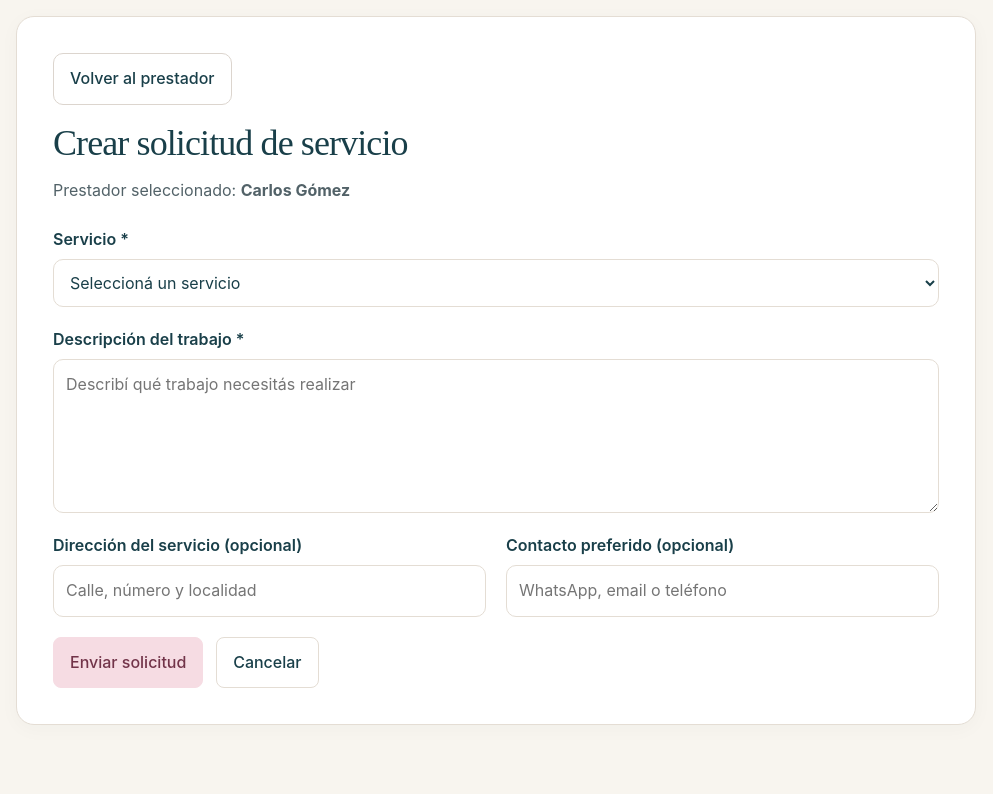
it: F-11 - Formulario de solicitud › muestra el error si falla el envío
This screenshot has width=993, height=794.
Select "Plomero" in the dropdown labelled "Servicio *" at (496, 283), box [53,259,939,307]
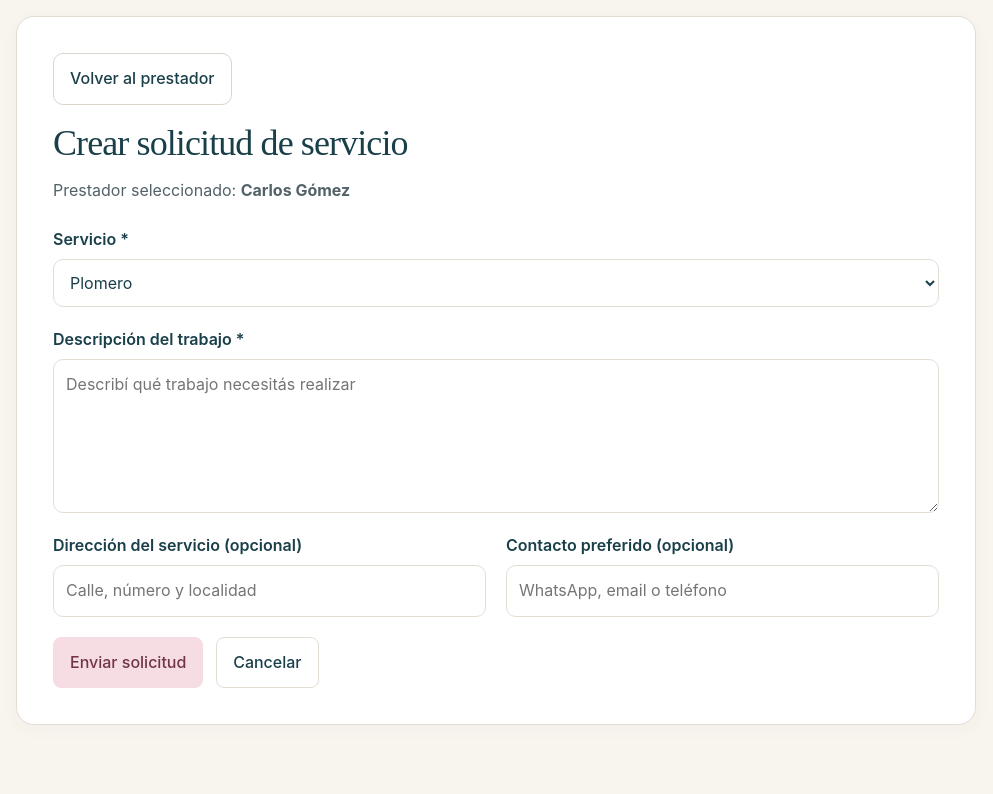
Type "Necesito reparar una pérdida de agua en la cocina." into the text box labelled "Descripción del trabajo *".
click(496, 436); type("Necesito reparar una pérdida de agua en la cocina.")  # box [53,359,939,513]
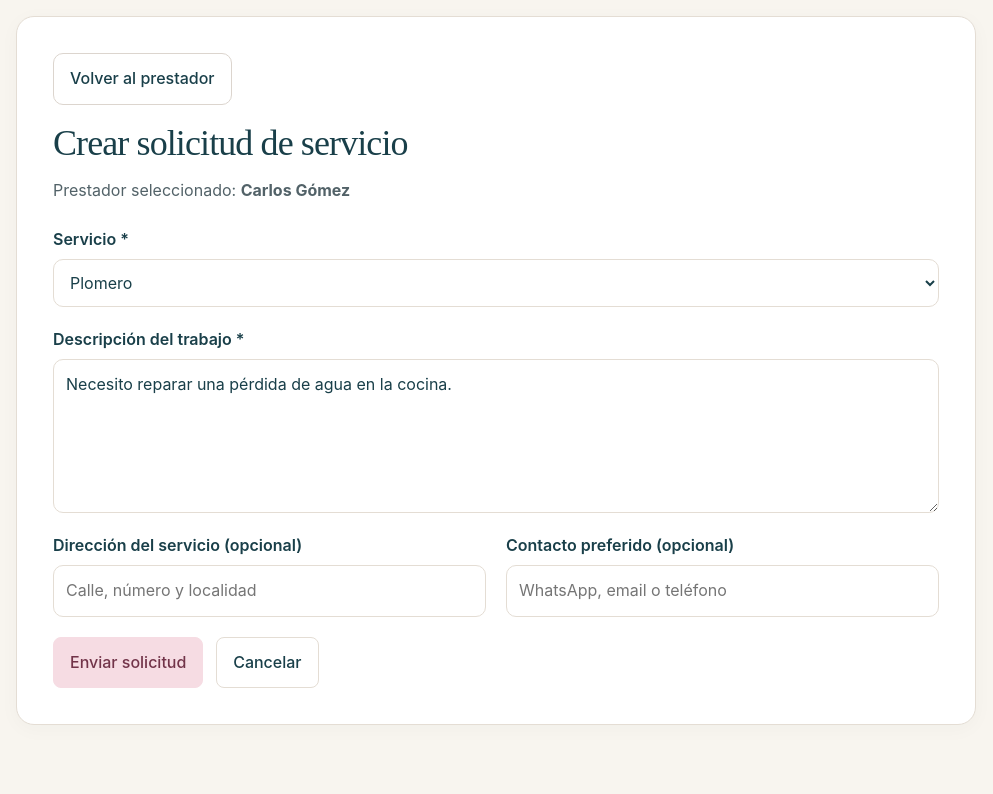
Type "Av. Santa Fe 1234" into the field labelled "Dirección del servicio (opcional)".
click(270, 591); type("Av. Santa Fe 1234")  # box [53,565,486,617]
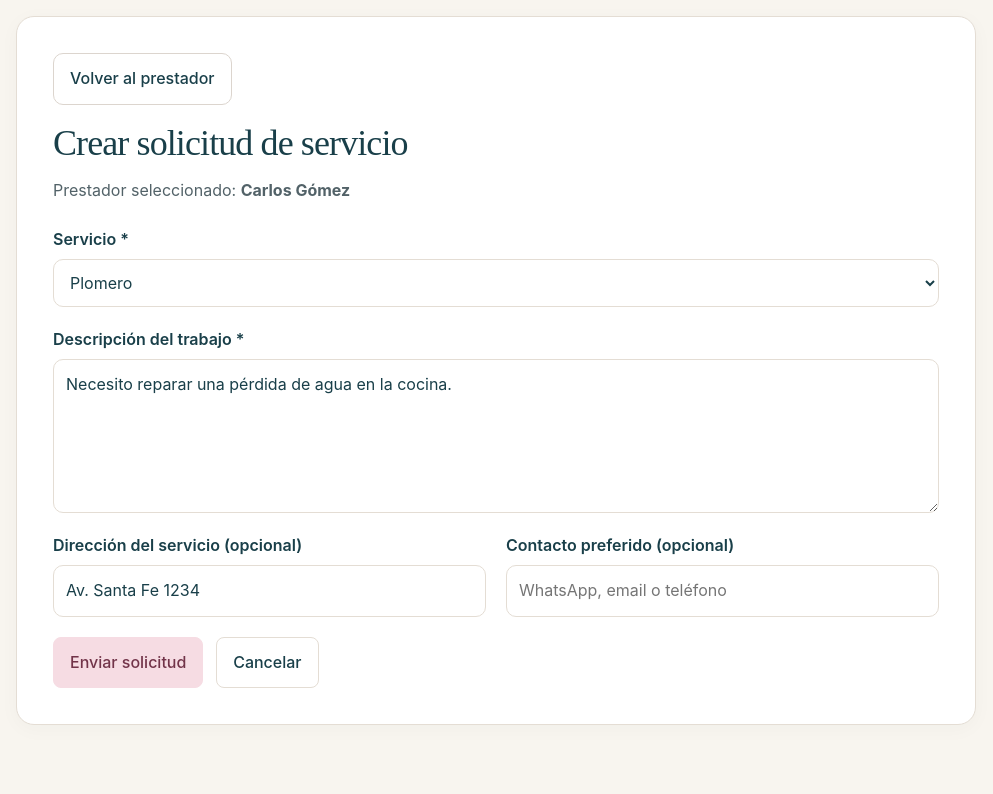
Click the button "Enviar solicitud".
click(128, 662)  # box [53,637,203,688]
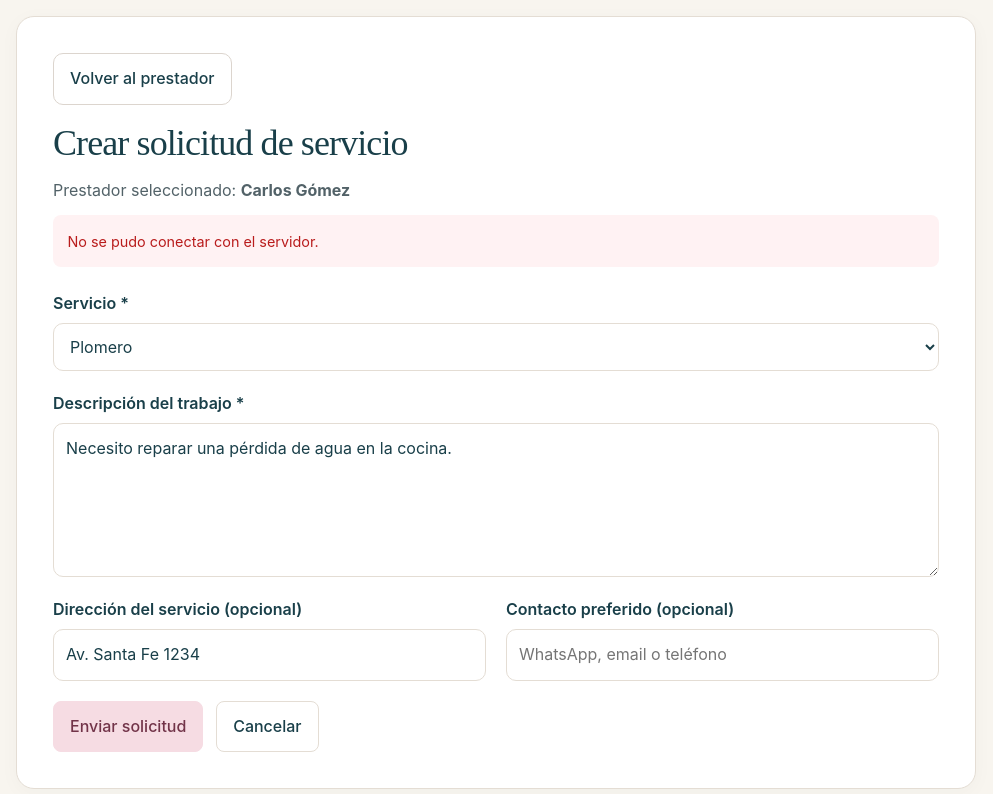
Result: the text "No se pudo conectar con el servidor." is shown at [53,215,939,267]
